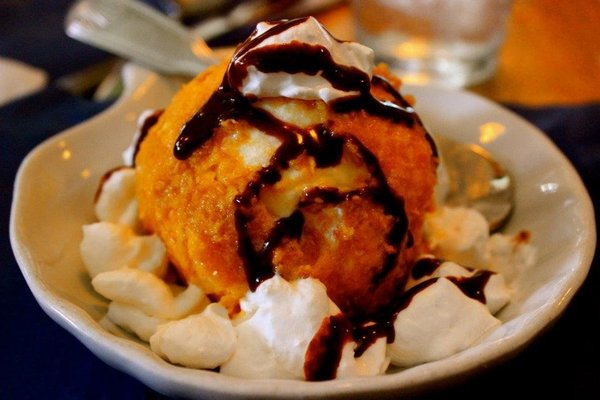sushi: (8, 19, 561, 396)
